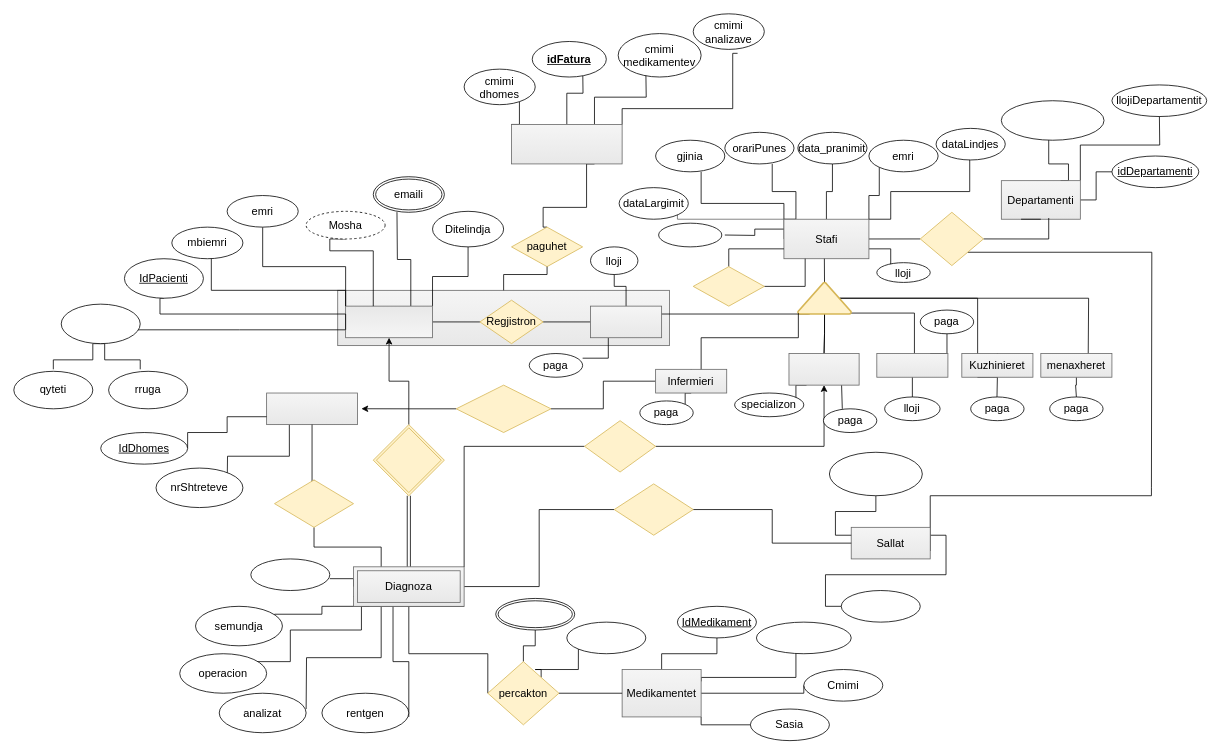
This 1221x754 diagram has some shape labels left out. The shapes that lost their labels are listed below. From the top down, each one's box as (x1, y1, x2, y2) in pixels, then its label:
(1001, 100, 1104, 140): emri_departamentit
(511, 124, 622, 164): Fatura
(658, 222, 722, 247): idStaf
(919, 211, 983, 266): i takon
(692, 266, 764, 306): menaxhon
(797, 281, 852, 314): IS-A
(60, 303, 140, 344): adresa
(345, 305, 433, 338): Pacienti
(590, 305, 662, 338): Recepcionist
(788, 353, 859, 385): doktori
(876, 353, 948, 377): Pastruesit
(266, 392, 357, 425): Dhoma
(455, 384, 551, 433): Mbikqyr
(372, 424, 444, 496): i caktohet
(584, 420, 656, 472): cakton
(829, 451, 922, 496): idSalles
(274, 479, 354, 527): te shtrihet
(613, 483, 693, 535): dergohet
(250, 558, 330, 591): IdDiagnozes
(495, 598, 575, 630): intervali
(840, 590, 920, 622): LlojiSalles
(566, 621, 646, 654): doza
(756, 621, 851, 654): Emri i medikamentit
